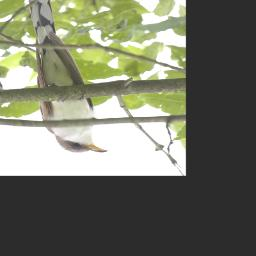Cuckoo: (28, 0, 110, 154)
